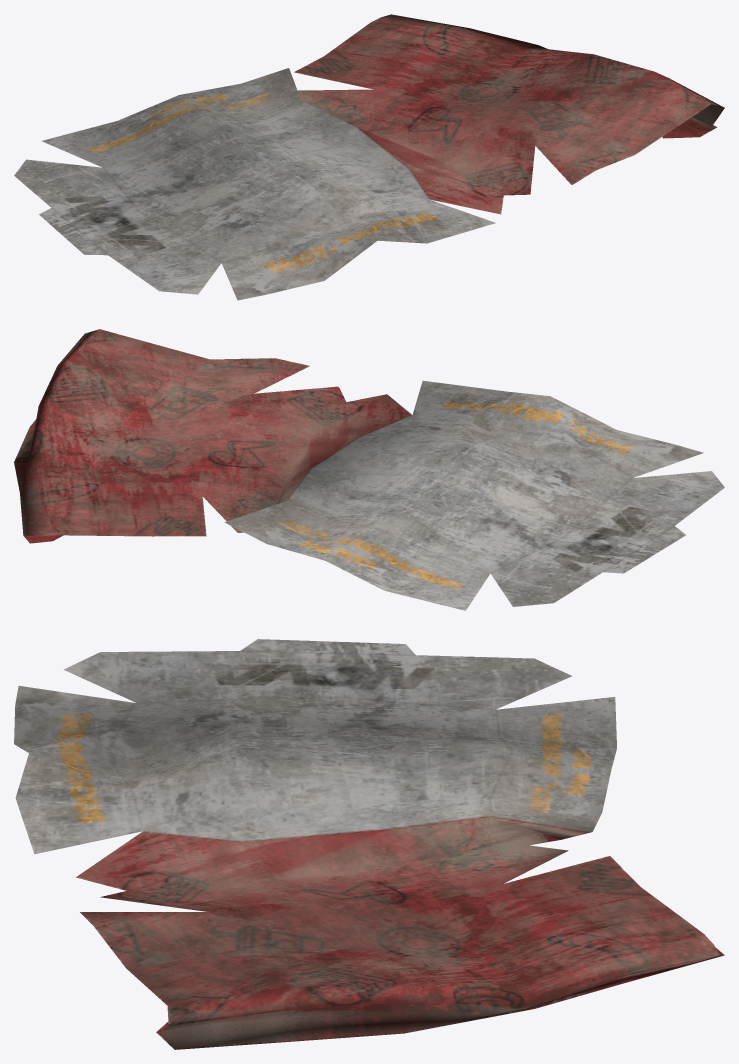
The model's file is SM_Food_Package_Trash_01.fbx.
3 renders of one model, top to bottom at view 1: azimuth 30°, elevation 25°; view 2: azimuth 150°, elevation 25°; view 3: azimuth 270°, elevation 25°, orthographic. The views are drawn at different scales.
Parts seen in each view (by area): view 1: SM_Food_Package_Trash_01_LOD0; view 2: SM_Food_Package_Trash_01_LOD0; view 3: SM_Food_Package_Trash_01_LOD0.
Part boxes in pixels (x1,y1,x2,y2): SM_Food_Package_Trash_01_LOD0: (14, 14, 724, 300); SM_Food_Package_Trash_01_LOD0: (14, 329, 724, 610); SM_Food_Package_Trash_01_LOD0: (14, 639, 724, 1049).
Bounding box in the file's own units: 70.72 × 50.95 × 3.8.
